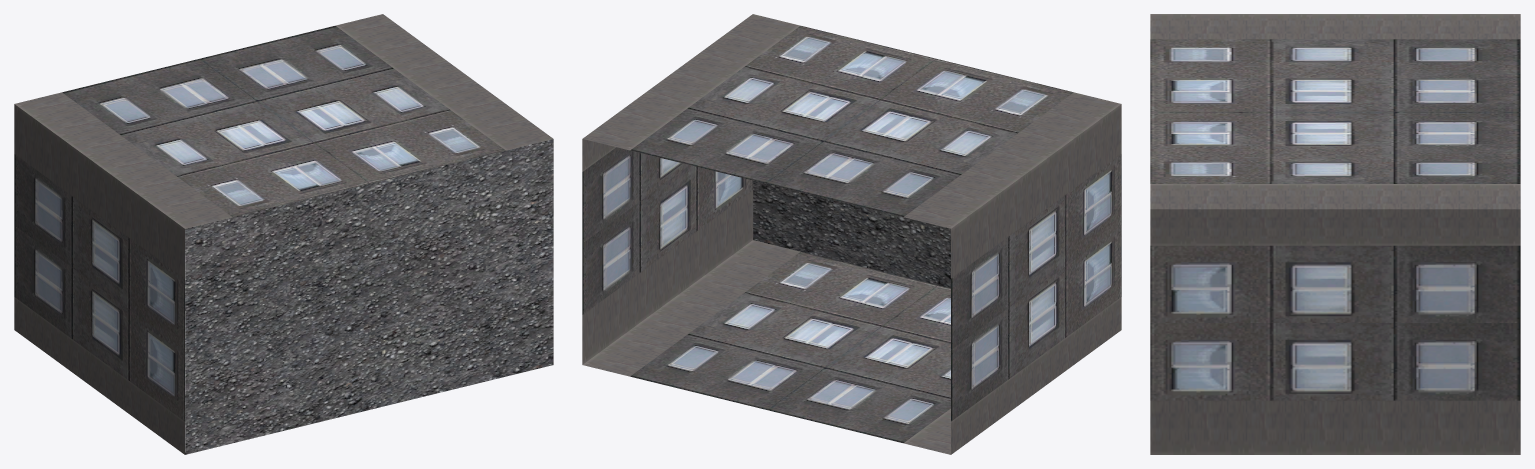
The model's file is mp_nuketown_2020_vista_bldg_11_LOD0.obj.
3 renders of one model, left to right at view 1: azimuth 30°, elevation 25°; view 2: azimuth 150°, elevation 25°; view 3: azimuth 270°, elevation 25°, orthographic. The views are drawn at different scales.
Visible parts, largest first — view 1: mp_m_vista_bldgs_01; view 2: mp_m_vista_bldgs_01; view 3: mp_m_vista_bldgs_01.
Boxes of the visible parts, bbox=[...] form: mp_m_vista_bldgs_01: bbox=[14, 14, 553, 454]; mp_m_vista_bldgs_01: bbox=[582, 14, 1121, 454]; mp_m_vista_bldgs_01: bbox=[1150, 14, 1520, 454].
Size of the model in its own units: 1179 by 691 by 945.
1 material, 1 textured.
